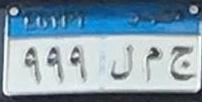9: (70, 44, 89, 82), (24, 46, 40, 83), (48, 46, 63, 80)
jeem: (167, 43, 196, 82)
laam: (110, 44, 135, 81)
meem: (137, 46, 164, 85)
